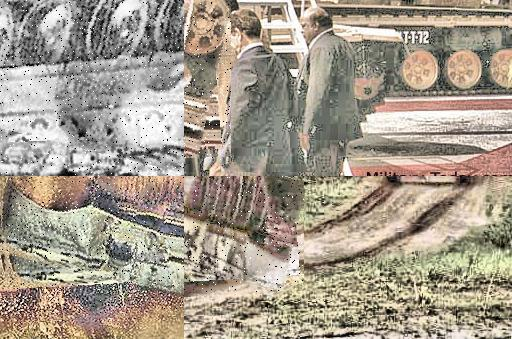tanks: (1, 1, 185, 177), (2, 177, 185, 301), (185, 177, 305, 293), (185, 1, 232, 161), (386, 177, 476, 186)
